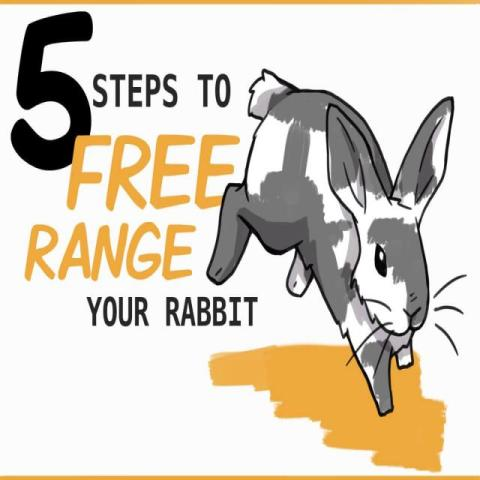small_animal: (204, 67, 457, 418)
